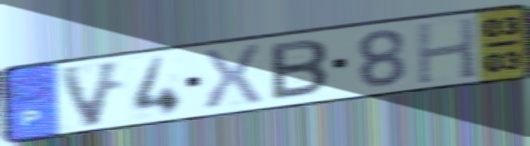4: (129, 53, 186, 119)
8: (353, 27, 409, 90)
B: (268, 37, 331, 103)
H: (413, 14, 479, 86)
V: (54, 57, 127, 131)
X: (199, 42, 266, 114)
